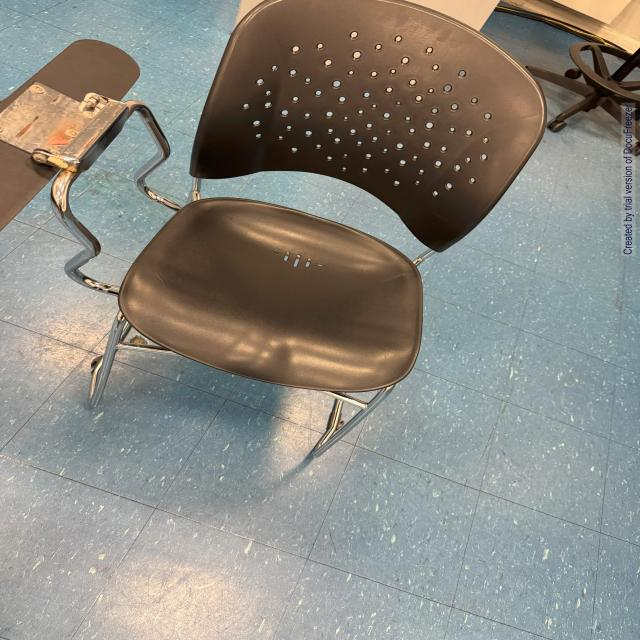chair: (0, 0, 578, 473)
